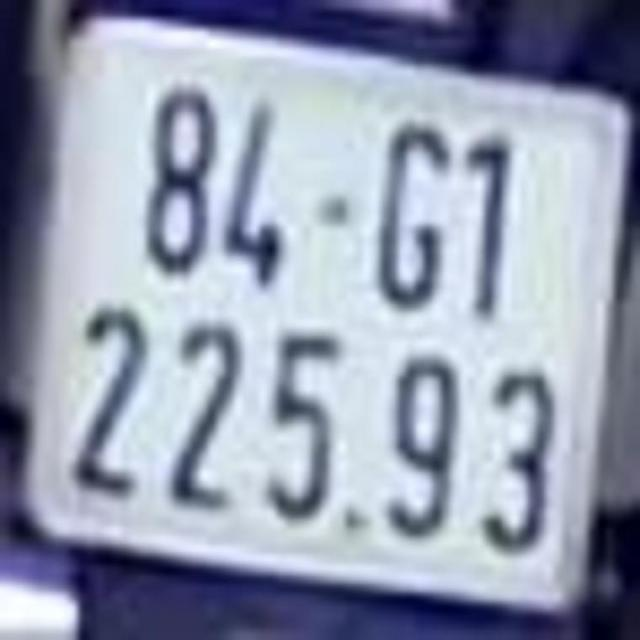1: (454, 121, 528, 321)
2: (71, 302, 149, 502), (168, 305, 236, 514)
3: (484, 355, 552, 560)
4: (224, 80, 285, 295)
5: (265, 322, 338, 524)
8: (143, 76, 218, 284)
9: (388, 340, 461, 548)
G: (369, 106, 452, 314)
